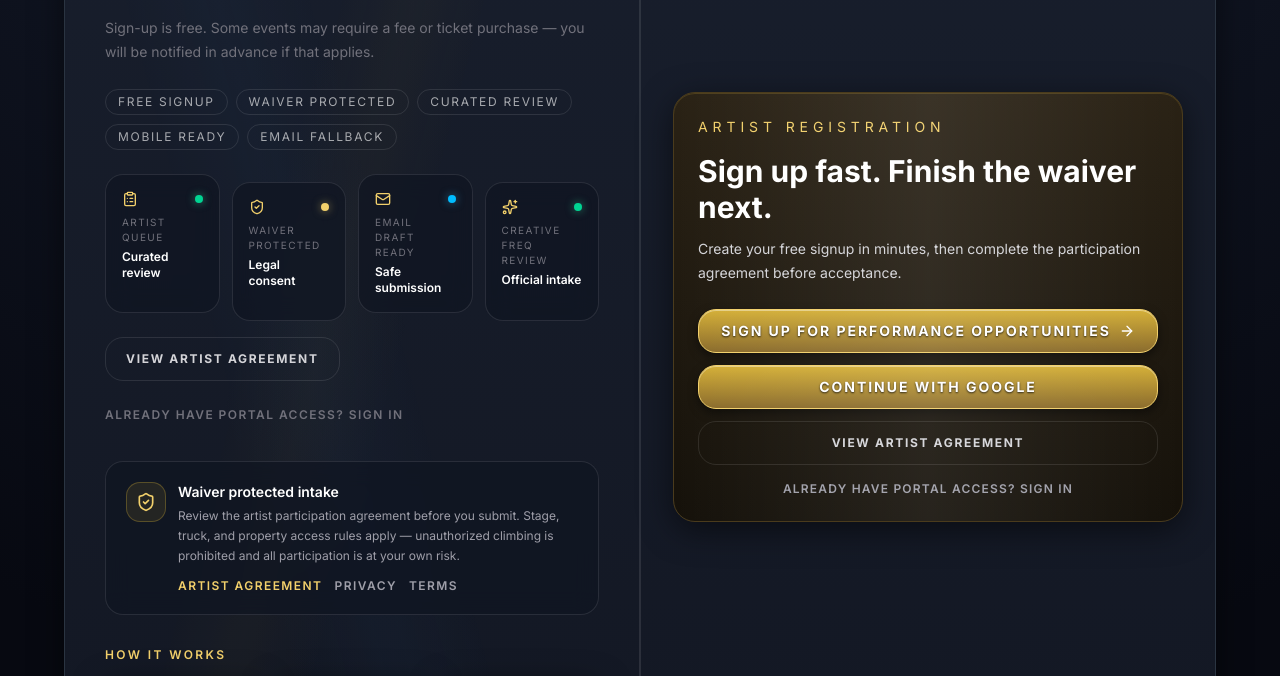
it: Landing page smoke tests › opens the quick signup form when CTA is clicked
(page scrolled)
Click the button "Sign Up For Performance Opportunities" at (928, 332), box [698, 310, 1158, 354]
(page scrolled)
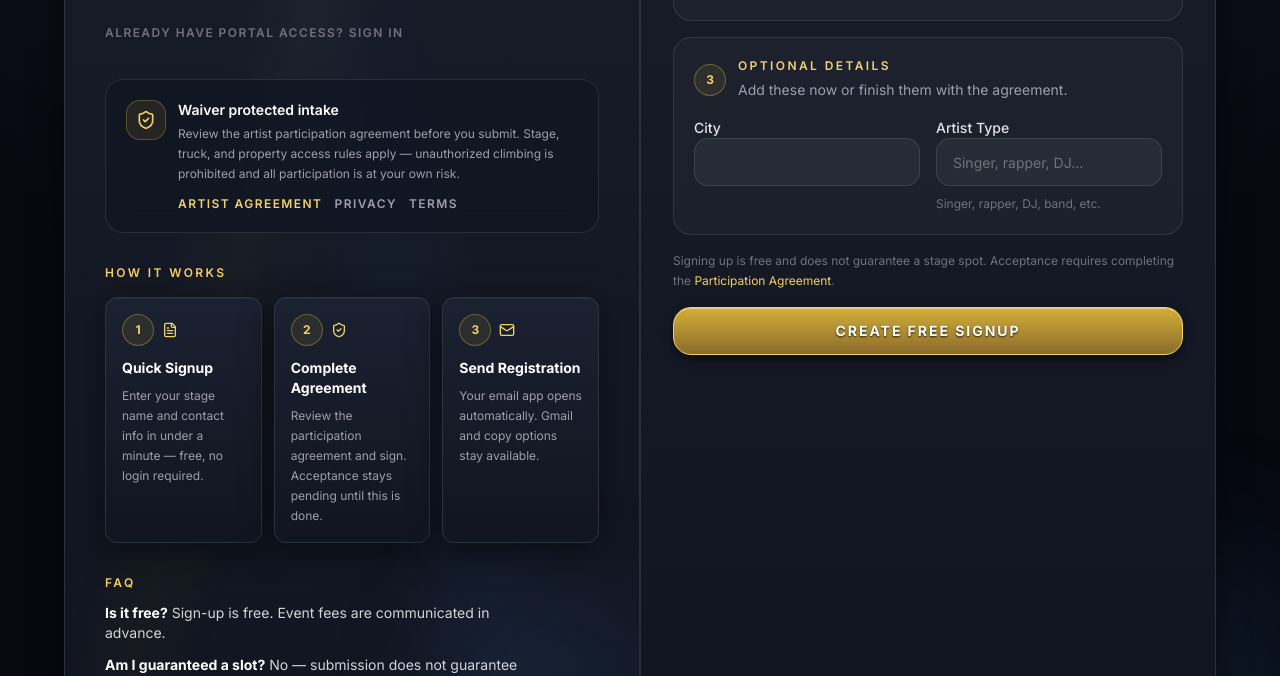
Expected: the button "Create Free Signup" is shown, [673, 308, 1183, 356]
